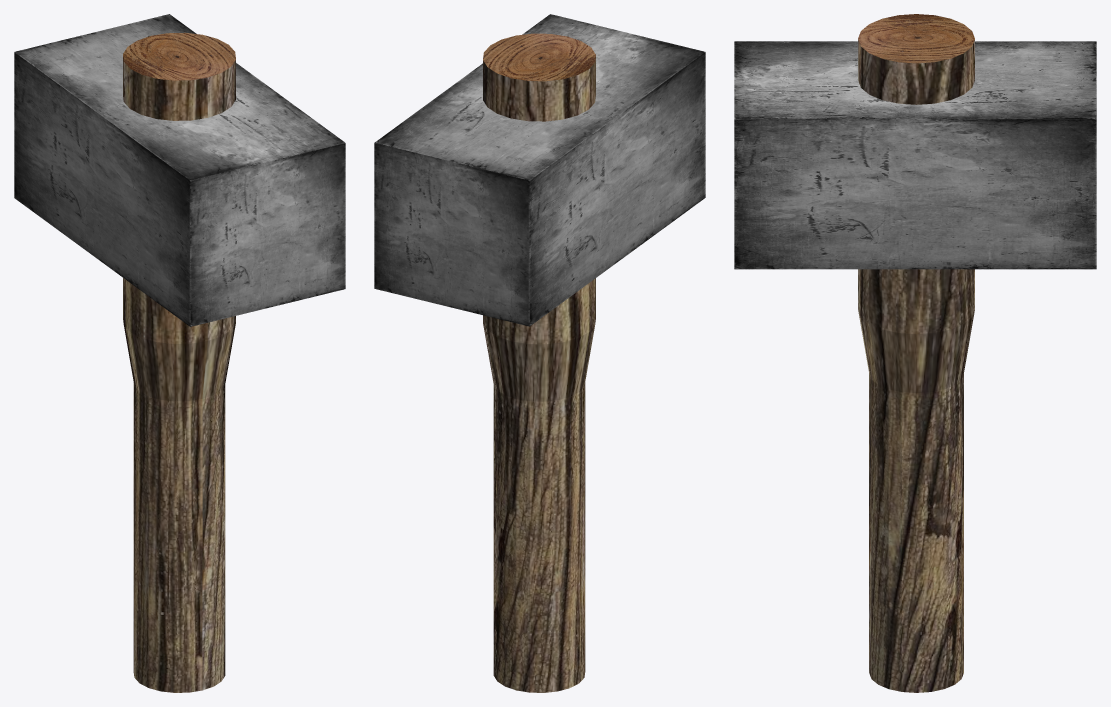
The model's file is hammer1.gltf.
3 renders of one model, left to right at view 1: azimuth 30°, elevation 25°; view 2: azimuth 150°, elevation 25°; view 3: azimuth 270°, elevation 25°, orthographic. The views are drawn at different scales.
Visible parts, largest first — view 1: Küp, Silindir, Silindir_2; view 2: Küp, Silindir, Silindir_2; view 3: Küp, Silindir, Silindir_2.
Boxes of the visible parts, x1,y1,x2,y2 form: Küp: (14,14,345,326); Silindir: (123,57,235,692); Silindir_2: (123,32,235,80); Küp: (374,14,705,326); Silindir: (483,57,595,692); Silindir_2: (483,33,595,81); Küp: (734,41,1096,269); Silindir: (858,39,974,692); Silindir_2: (858,14,974,63).
Size of the model in its own units: 0.0954 by 0.3619 by 0.1873.
4 materials, 4 textured.
